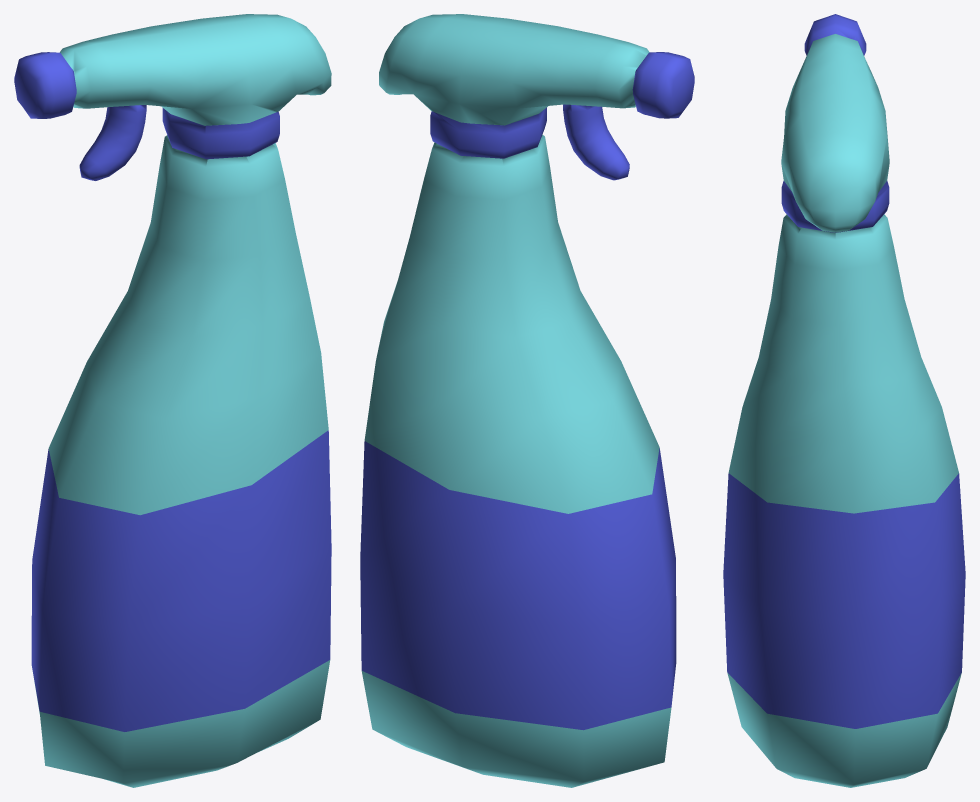
Rendered from Deter2.glb.
3 renders of one model, left to right at view 1: azimuth 30°, elevation 25°; view 2: azimuth 150°, elevation 25°; view 3: azimuth 270°, elevation 25°, orthographic. The views are drawn at different scales.
Visible parts, largest first — view 1: disperser.005; view 2: disperser.005; view 3: disperser.005.
Part boxes in pixels (<box>): disperser.005: <box>14,14,331,787</box>; disperser.005: <box>360,14,694,787</box>; disperser.005: <box>723,14,965,787</box>.
Bounding box in the file's own units: 0.26 × 0.589 × 0.1929.
